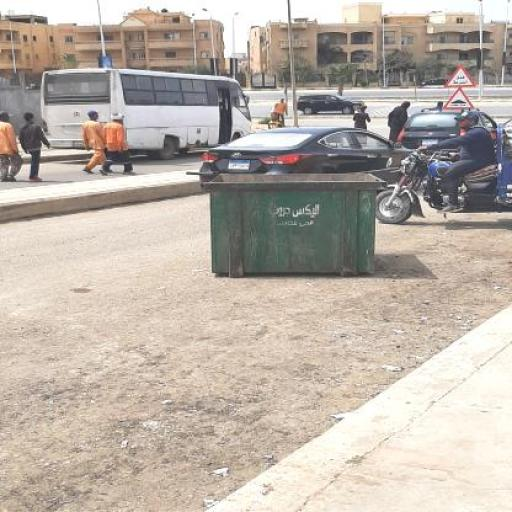street light: (201, 7, 216, 82), (476, 0, 484, 100), (233, 12, 240, 83), (382, 14, 388, 88), (190, 14, 196, 78)
